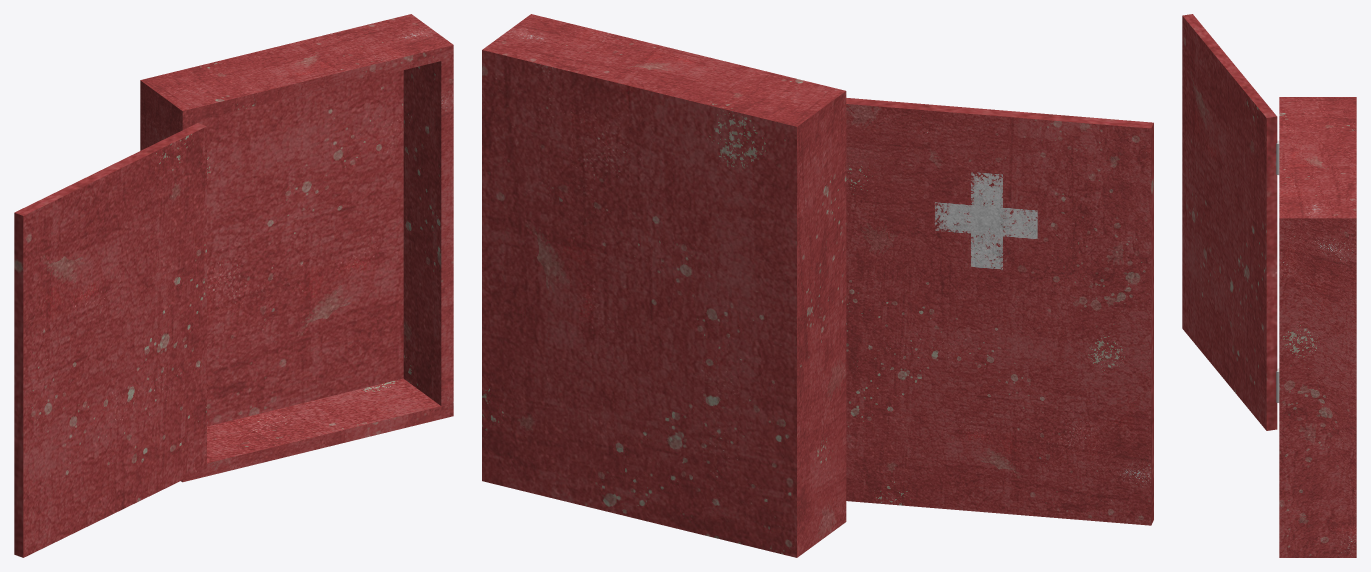
The model's file is medbox.fbx.
The picture shows the model from 3 angles, left to right: view 1: azimuth 30°, elevation 25°; view 2: azimuth 150°, elevation 25°; view 3: azimuth 270°, elevation 25°; orthographic projection. The views are drawn at different scales.
Parts seen in each view (by area): view 1: Box, Door; view 2: Box, Door; view 3: Box, Door, Hinges.
Boxes of the visible parts, x1,y1,x2,y2 form: Box: (140,14,453,482); Door: (14,123,206,557); Box: (482,14,846,557); Door: (846,98,1153,525); Box: (1279,97,1356,557); Door: (1182,14,1277,430); Hinges: (1276,140,1279,402).
Size of the model in its own units: 359 by 262 by 122.
